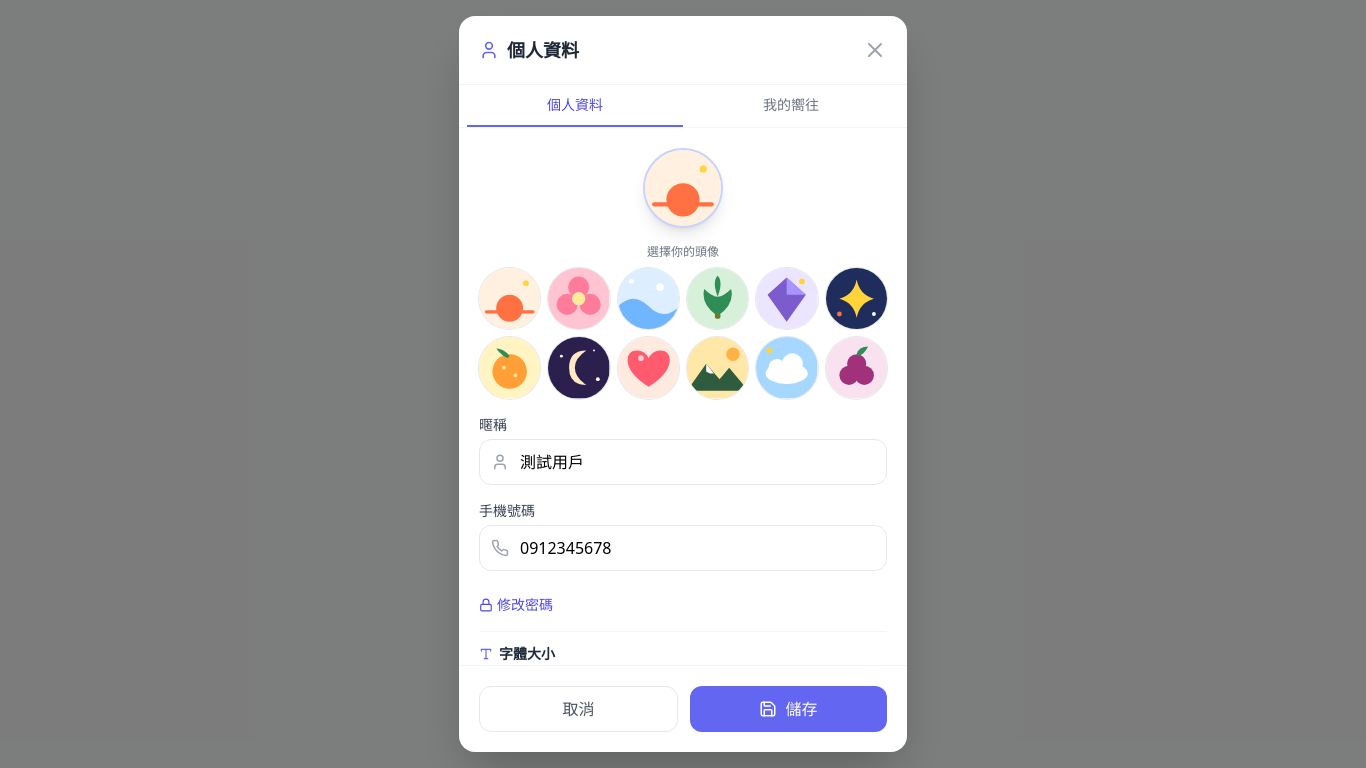
Test: ProfileModal › shows password fields when "修改密碼" is clicked
The image size is (1366, 768).
Click the button "修改密碼".
click(516, 605)  # box [479,595,553,615]
(page scrolled)
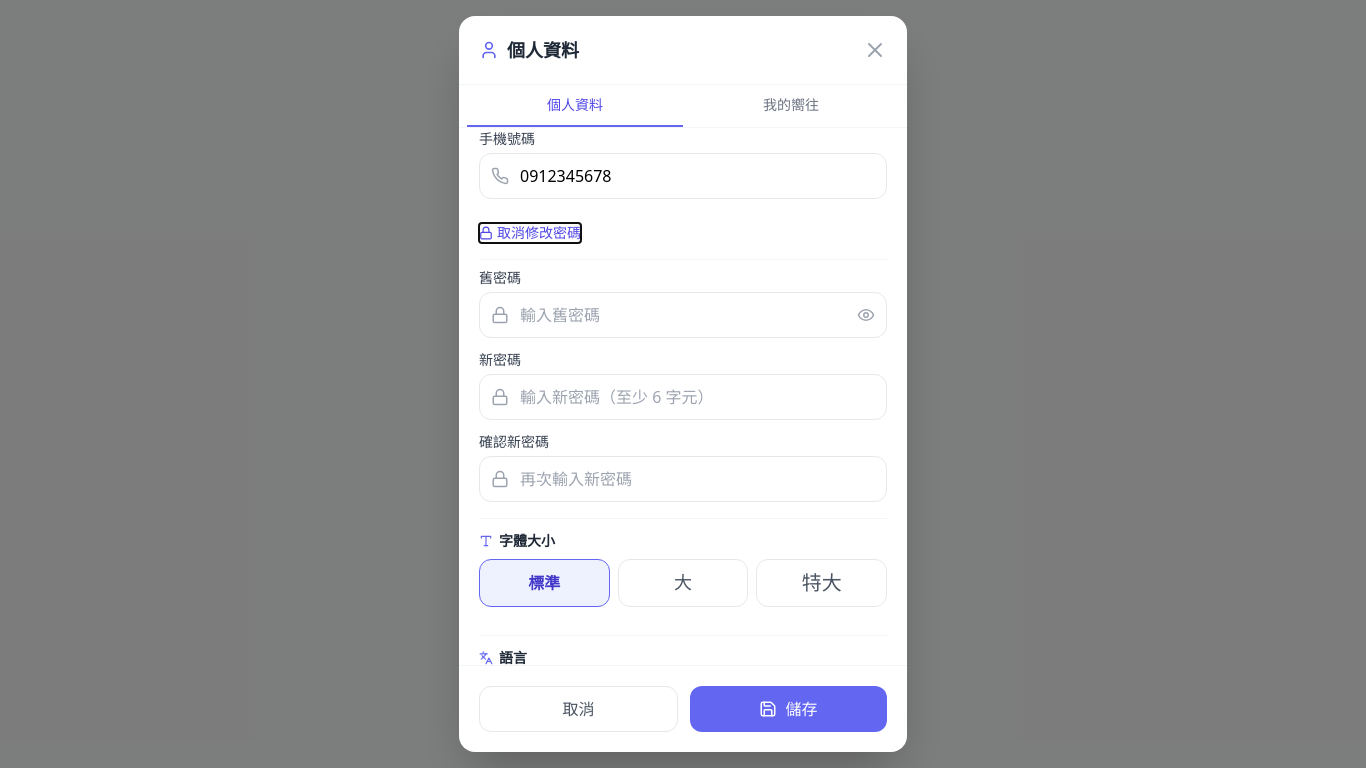
Result: the password field with placeholder "輸入舊密碼" is shown at [479,292,887,338]
Result: the password field with placeholder "輸入新密碼（至少 6 字元）" is shown at [479,374,887,420]
